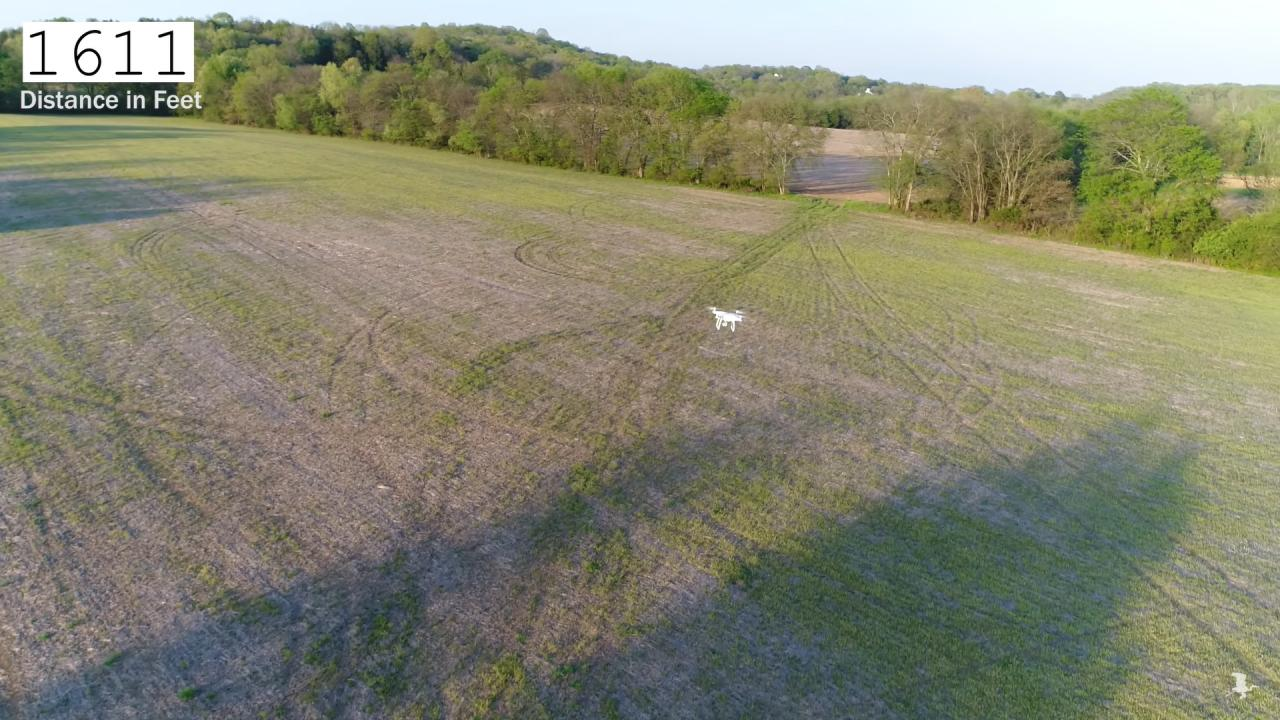Drone: (697, 295, 755, 342)
